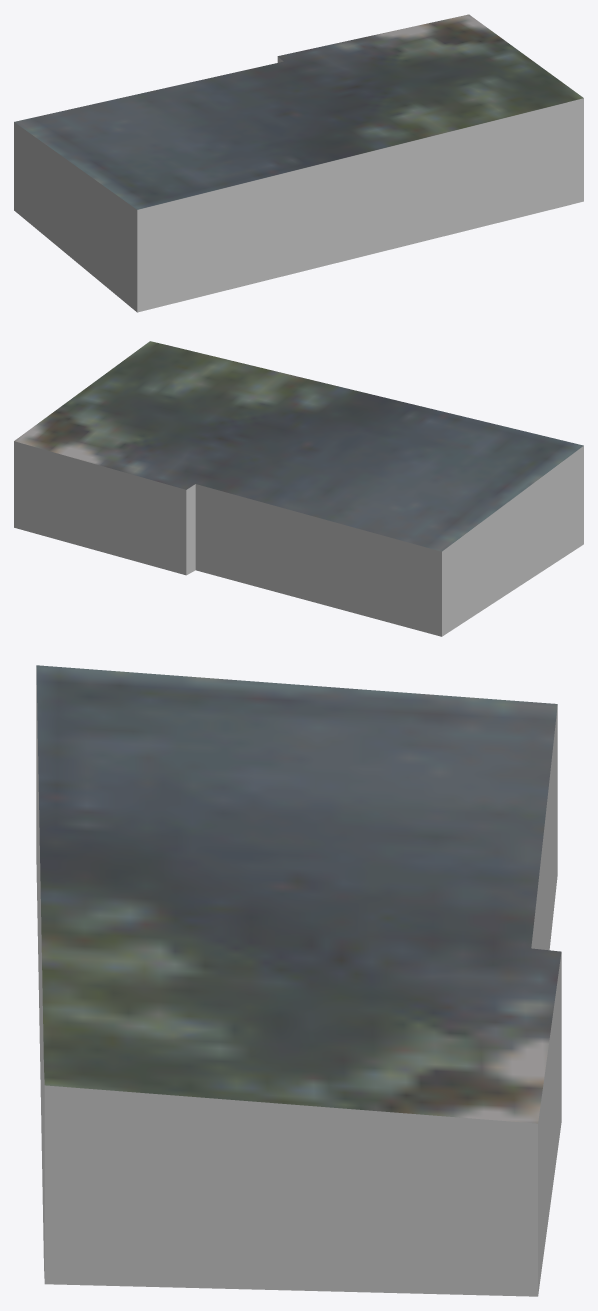
The model's file is DEBW_0010007Tvjz.gltf.
3 views of the same model, one above another, from view 1: azimuth 30°, elevation 25°; view 2: azimuth 150°, elevation 25°; view 3: azimuth 270°, elevation 25° (orthographic). The views are drawn at different scales.
Parts seen in each view (by area): view 1: Z_UP; view 2: Z_UP; view 3: Z_UP.
Part boxes in pixels (box(x1,y1,x2,y2)): Z_UP: box(14, 14, 583, 312); Z_UP: box(14, 341, 583, 636); Z_UP: box(36, 665, 561, 1296).
Size of the model in its own units: 13.59 by 2.9 by 6.95.
Materials: 2 (1 with a texture image).
